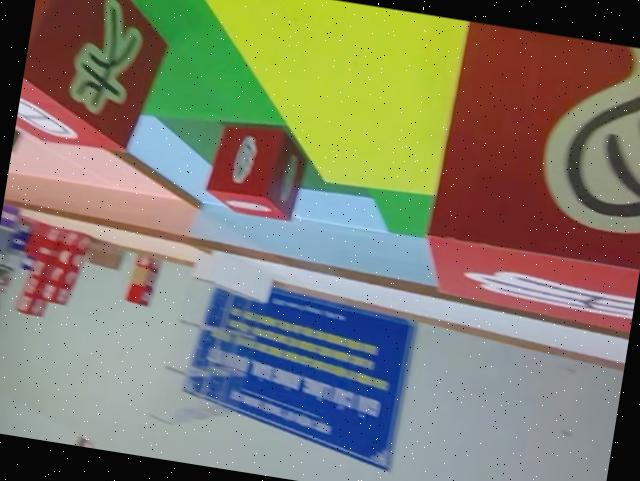R2 Fake: (413, 18, 640, 336), (12, 0, 182, 160)
R2 Real: (199, 110, 309, 225)
